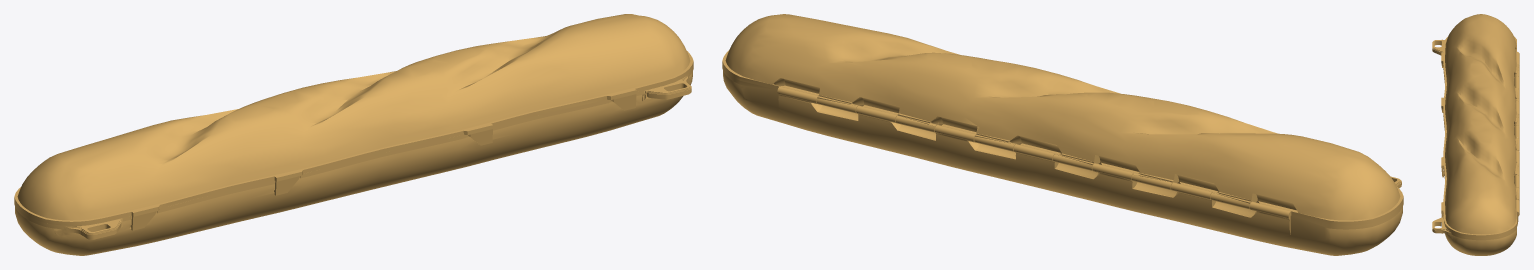
Rendered from baguette-holder.glb.
3 views of the same model, side by side, from view 1: azimuth 30°, elevation 25°; view 2: azimuth 150°, elevation 25°; view 3: azimuth 270°, elevation 25° (orthographic). The views are drawn at different scales.
Visible parts, largest first — view 1: lid, base; view 2: lid, base; view 3: lid, base.
Boxes of the visible parts, x1,y1,x2,y2 form: lid: (14, 14, 693, 230); base: (14, 65, 693, 255); lid: (722, 14, 1403, 225); base: (722, 65, 1403, 255); lid: (1441, 14, 1519, 237); base: (1432, 39, 1519, 255).
Size of the model in its own units: 622 by 86.97 by 111.
